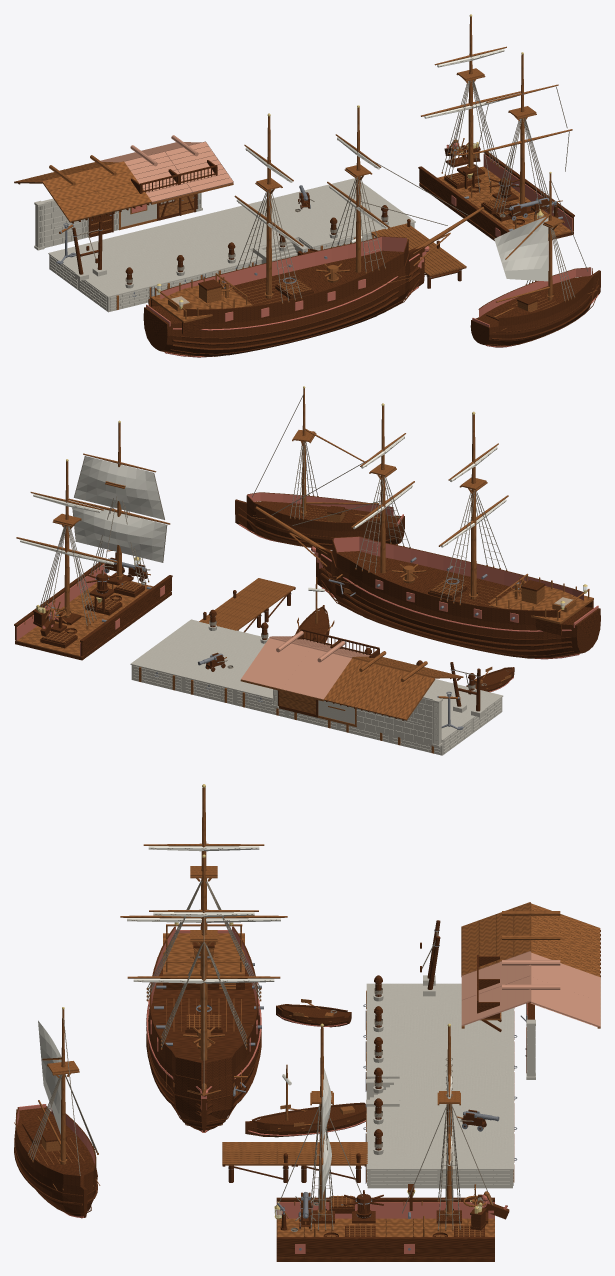
File: pirate-port-and-tall-ships-harbour-quay-1c363ad0-starter-scene__30169.glb
3 views of the same model, one above another, from view 1: azimuth 30°, elevation 25°; view 2: azimuth 150°, elevation 25°; view 3: azimuth 270°, elevation 25° (orthographic). The views are drawn at different scales.
Parts seen in each view (by area): view 1: 033-brig-two-masted/0, 033-brig-two-masted/2, 034-sloop-single-masted/0, 033-brig-two-masted/1, 034-sloop-single-masted/4, 006-stone-quay-section/0, 027-warehouse-roof-section/0, 033-brig-two-masted/12, 028-warehouse-roof-section/0, 030-tiled-roof-section/0, 029-tiled-roof-section/0, 007-stone-quay-section/0 (+29 smaller); view 2: 033-brig-two-masted/0, 040-ship-mast-module-sails-set/4, 033-brig-two-masted/2, 034-sloop-single-masted/0, 033-brig-two-masted/1, 027-warehouse-roof-section/0, 028-warehouse-roof-section/0, 030-tiled-roof-section/0, 029-tiled-roof-section/0, 005-stone-quay-section/0, 033-brig-two-masted/12, 004-stone-quay-section/0 (+27 smaller); view 3: 033-brig-two-masted/0, 033-brig-two-masted/2, 034-sloop-single-masted/0, 011-stone-quay-section/0, 030-tiled-roof-section/0, 027-warehouse-roof-section/0, 005-stone-quay-section/0, 028-warehouse-roof-section/0, 029-tiled-roof-section/0, 037-brig-deck-section/0, 038-brig-deck-section/0, 035-ships-longboat/0 (+28 smaller).
Boxes of the visible parts, x1,y1,x2,y2 form: 033-brig-two-masted/0: (143, 236, 424, 356); 033-brig-two-masted/2: (150, 108, 484, 322); 034-sloop-single-masted/0: (470, 267, 600, 346); 033-brig-two-masted/1: (146, 236, 429, 357); 034-sloop-single-masted/4: (494, 217, 548, 281); 006-stone-quay-section/0: (79, 262, 159, 312); 027-warehouse-roof-section/0: (14, 165, 110, 222); 033-brig-two-masted/12: (236, 139, 468, 302); 028-warehouse-roof-section/0: (59, 155, 151, 212); 030-tiled-roof-section/0: (141, 135, 233, 192); 029-tiled-roof-section/0: (100, 145, 192, 202); 007-stone-quay-section/0: (131, 250, 211, 294); 033-brig-two-masted/0: (316, 536, 600, 658); 040-ship-mast-module-sails-set/4: (73, 456, 166, 562); 033-brig-two-masted/2: (255, 406, 593, 624); 034-sloop-single-masted/0: (235, 492, 404, 550); 033-brig-two-masted/1: (311, 536, 598, 659); 027-warehouse-roof-section/0: (365, 661, 463, 720); 028-warehouse-roof-section/0: (323, 651, 418, 710); 030-tiled-roof-section/0: (241, 630, 330, 689); 029-tiled-roof-section/0: (282, 641, 369, 699); 005-stone-quay-section/0: (130, 641, 212, 692); 033-brig-two-masted/12: (271, 437, 506, 603); 004-stone-quay-section/0: (182, 656, 251, 704); 033-brig-two-masted/0: (146, 926, 261, 1132); 033-brig-two-masted/2: (120, 787, 287, 1095); 034-sloop-single-masted/0: (14, 1106, 97, 1218); 011-stone-quay-section/0: (366, 1137, 441, 1188); 030-tiled-roof-section/0: (461, 975, 600, 1027); 027-warehouse-roof-section/0: (461, 902, 600, 952); 005-stone-quay-section/0: (439, 1137, 513, 1188); 028-warehouse-roof-section/0: (461, 926, 600, 976); 029-tiled-roof-section/0: (461, 951, 600, 1001); 037-brig-deck-section/0: (385, 1197, 494, 1261); 038-brig-deck-section/0: (276, 1197, 385, 1261); 035-ships-longboat/0: (245, 1102, 366, 1137).
Bounding box in the file's own units: 36.4 × 16.79 × 32.29.
10 materials, 3 textured.
